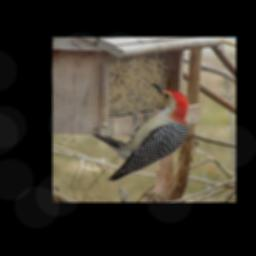Woodpecker: (98, 82, 193, 178)
